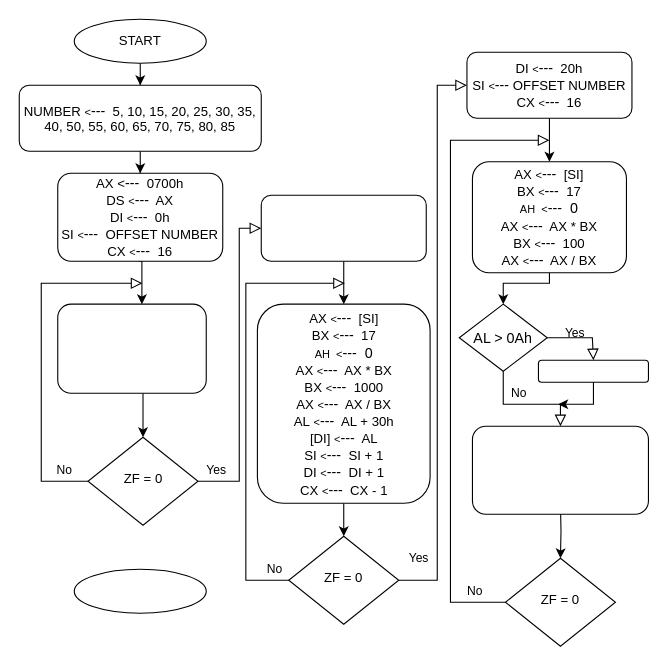
Some shapes in this 668 by 666 pixel diagram are drawn without their labels. Here are the shapes that lost their labels. From the top down, the box of each, then its label:
(260, 194, 426, 261): DI < --- 10h SI < --- OFFSET NUMBER CX < --- 16
(57, 303, 206, 393): AH < --- [SI] [DI] < --- AH SI < --- SI + 1 DI < --- DI + 1 CX < --- CX - 1
(537, 359, 648, 382): AL < --- AL - 0Ah
(471, 425, 648, 514): AL < --- AL + 30h [DI] < --- AL SI < --- SI + 1 DI < --- DI + 1 CX < --- CX - 1
(73, 568, 206, 613): END
